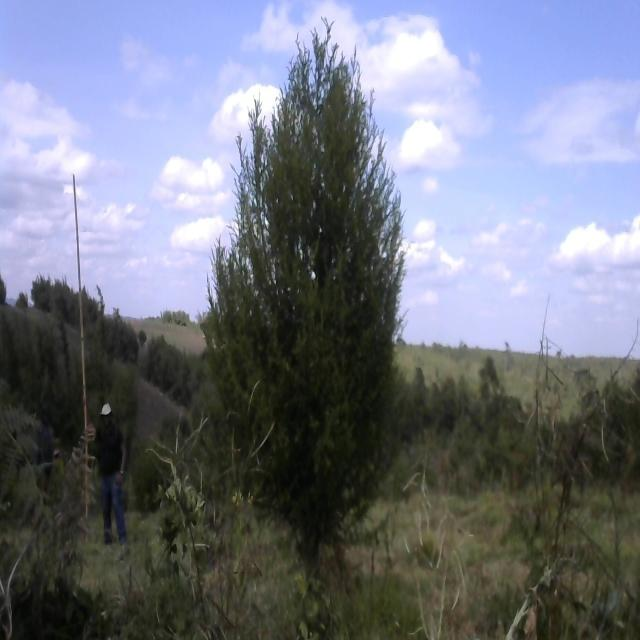Juniperus procesera: (205, 12, 406, 586)
